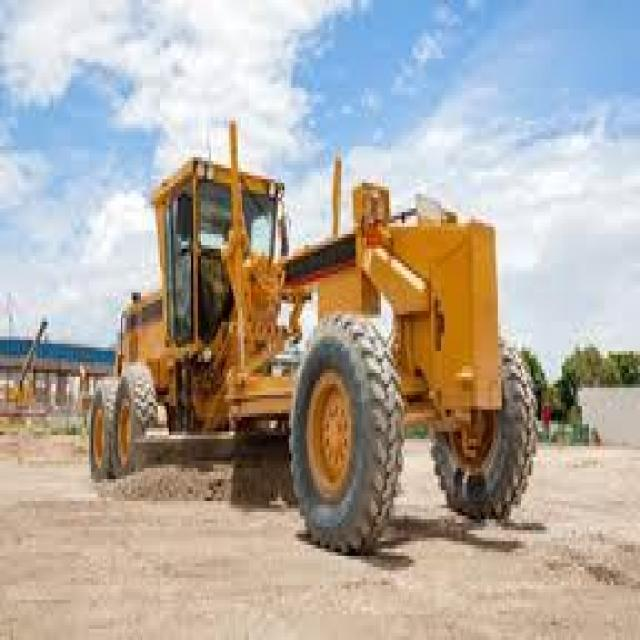Grader: (67, 143, 560, 556)
